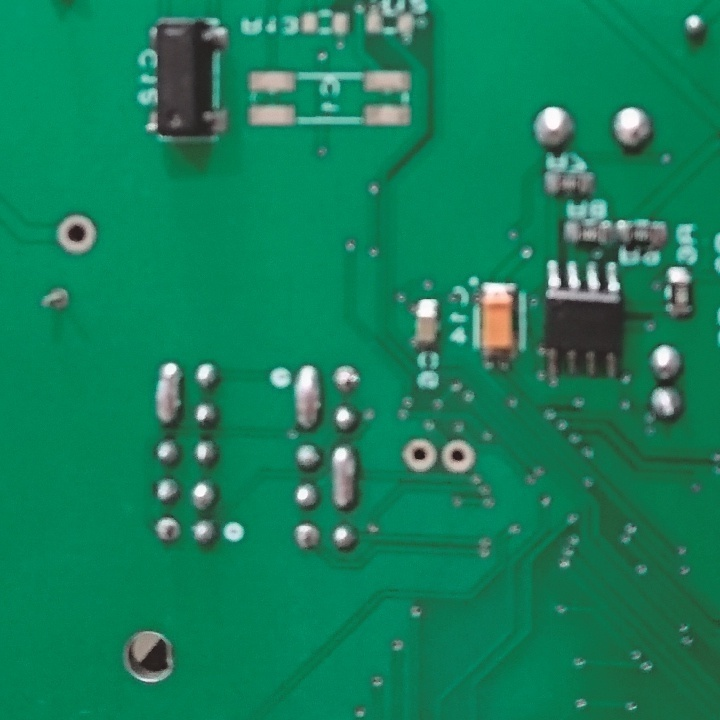F: (53, 210, 100, 255), (439, 436, 475, 480), (400, 437, 437, 475), (331, 361, 363, 395), (290, 520, 324, 551), (39, 283, 71, 313), (153, 515, 181, 543)
P: (153, 360, 184, 425), (293, 365, 321, 430), (329, 439, 353, 507)
